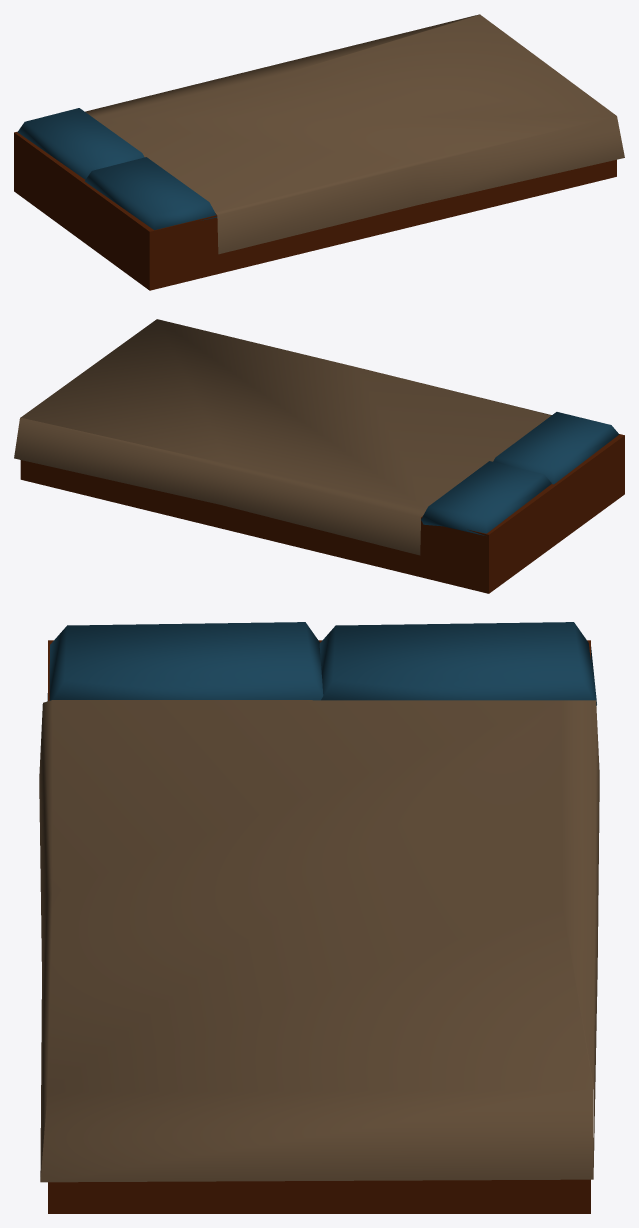
Rendered from Cama.fbx.
3 views of the same model, one above another, from view 1: azimuth 30°, elevation 25°; view 2: azimuth 150°, elevation 25°; view 3: azimuth 270°, elevation 25° (orthographic). The views are drawn at different scales.
Parts seen in each view (by area): view 1: Cube.001; view 2: Cube.001; view 3: Cube.001.
Part boxes in pixels (x1,y1,x2,y2): Cube.001: (14, 14, 624, 290); Cube.001: (14, 319, 624, 593); Cube.001: (39, 622, 599, 1213).
Size of the model in its own units: 811 by 116 by 416.
